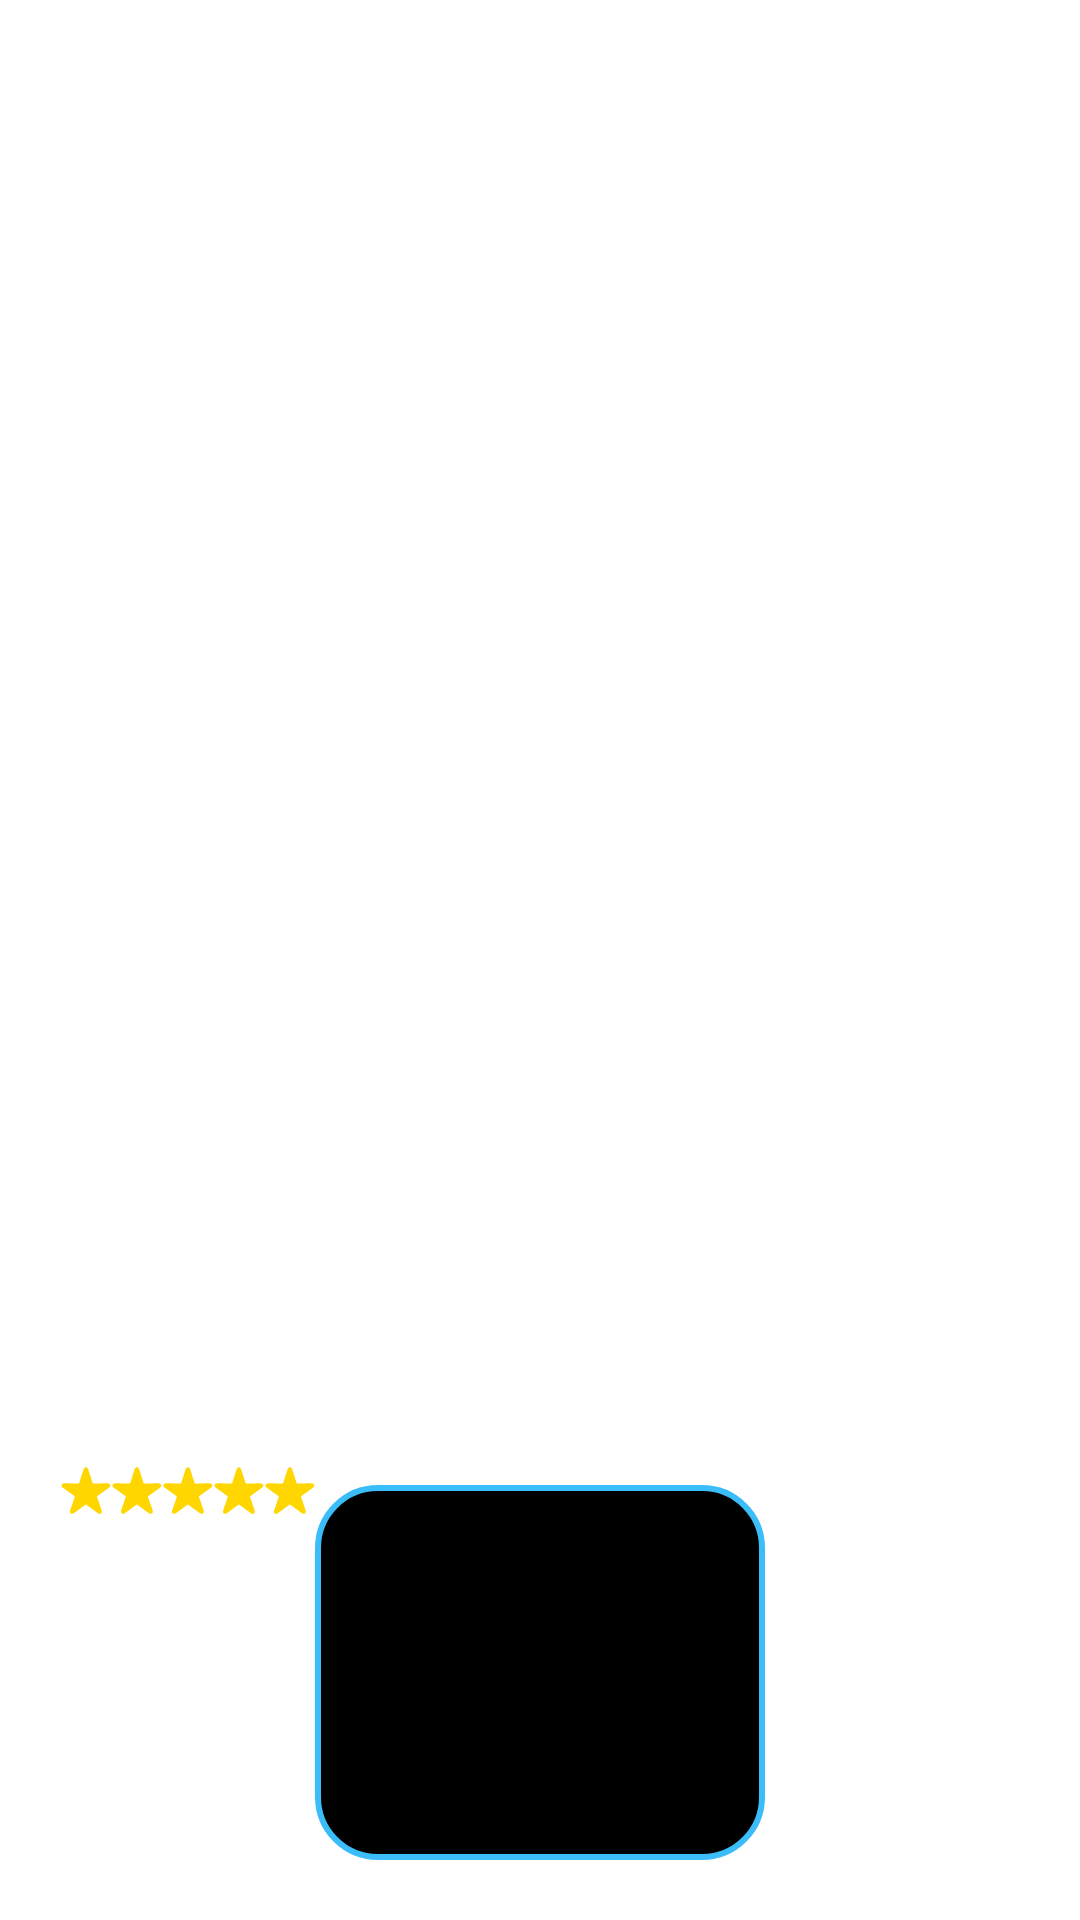

Icons on this 1080×1920 Android screen, each with the point to tap as [x,y]:
star: [86,1490], [137,1490], [188,1490], [239,1490], [290,1490]
